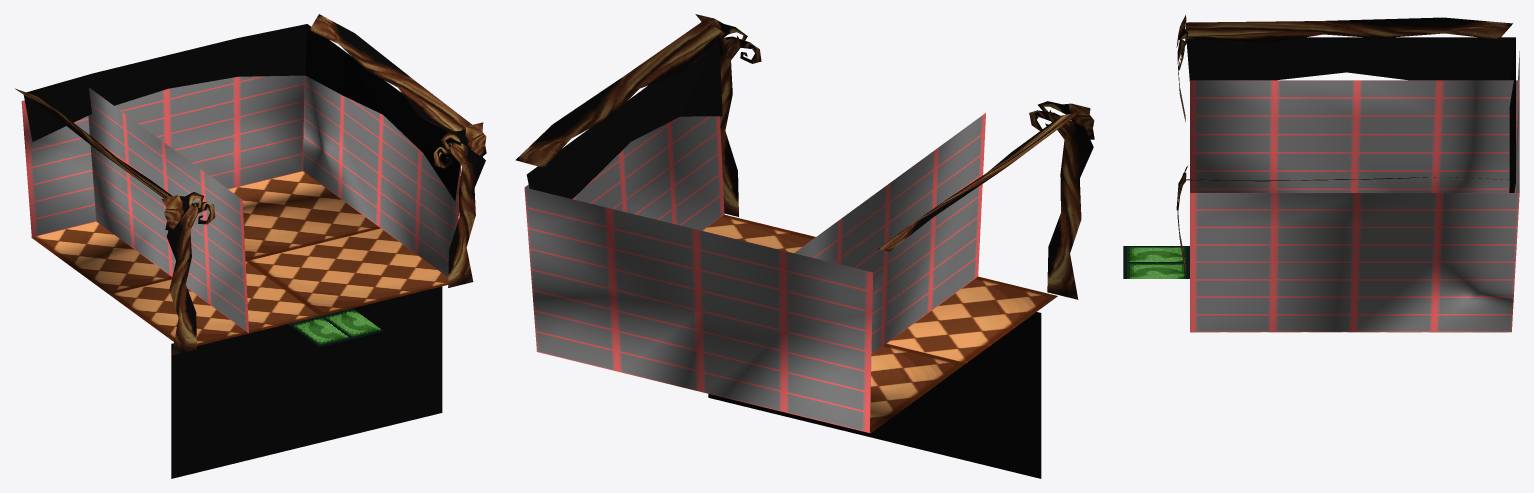
The picture shows the model from 3 angles, left to right: view 1: azimuth 30°, elevation 25°; view 2: azimuth 150°, elevation 25°; view 3: azimuth 270°, elevation 25°; orthographic projection. The views are drawn at different scales.
Parts seen in each view (by area): view 1: pc_room_00; view 2: pc_room_00; view 3: pc_room_00.
Boxes of the visible parts, x1,y1,x2,y2 form: pc_room_00: [15, 14, 486, 478]; pc_room_00: [515, 14, 1094, 478]; pc_room_00: [1123, 15, 1519, 332].
Size of the model in its own units: 4.99 by 4.4 by 5.05.
Materials: 6 (6 with a texture image).
